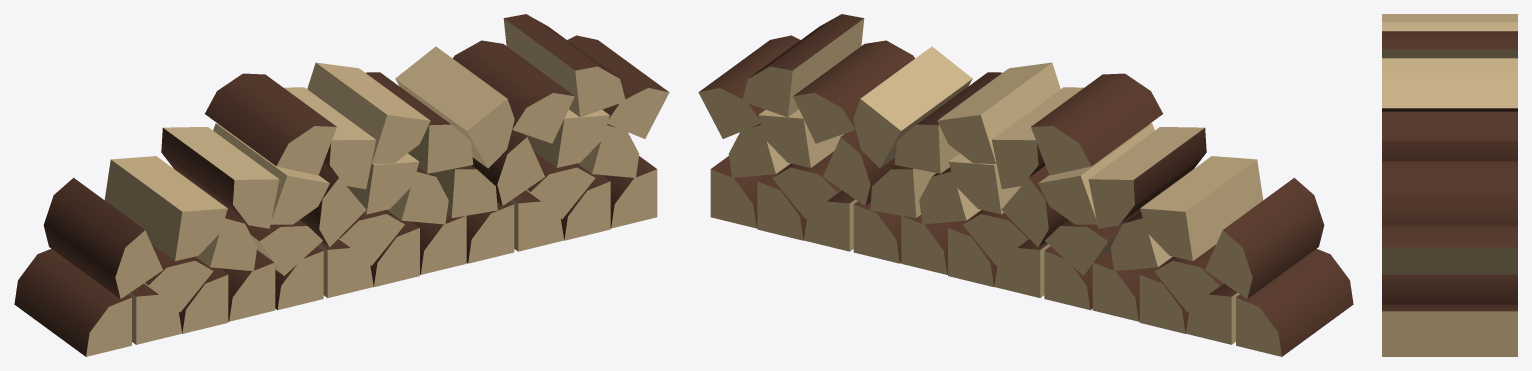
The model's file is Furniture_FirewoodPile_L.fbx.
The picture shows the model from 3 angles, left to right: view 1: azimuth 30°, elevation 25°; view 2: azimuth 150°, elevation 25°; view 3: azimuth 270°, elevation 25°; orthographic projection. The views are drawn at different scales.
Parts seen in each view (by area): view 1: Firewood Pile Large; view 2: Firewood Pile Large; view 3: Firewood Pile Large.
Boxes of the visible parts, box(x1,y1,x2,y2) form: Firewood Pile Large: box(14, 14, 669, 356); Firewood Pile Large: box(698, 14, 1353, 356); Firewood Pile Large: box(1382, 14, 1517, 356).
Bounding box in the file's own units: 600 × 173 × 128.
